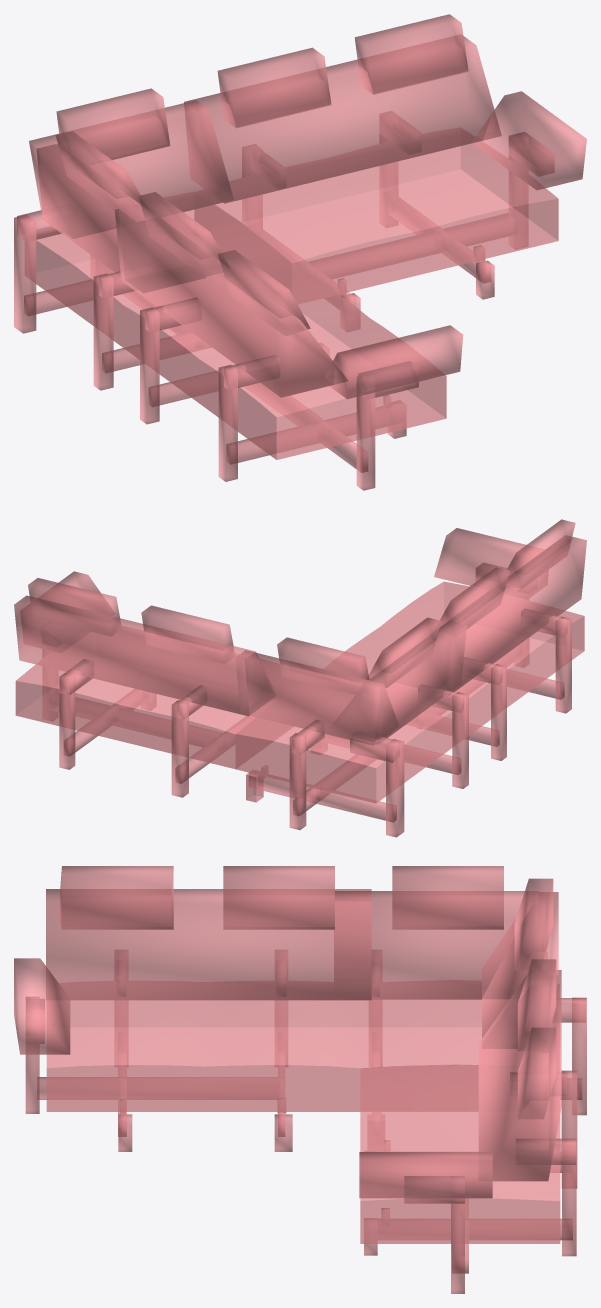
File: Sofa_01_collision.DAE
3 renders of one model, top to bottom at view 1: azimuth 30°, elevation 25°; view 2: azimuth 150°, elevation 25°; view 3: azimuth 270°, elevation 25°, orthographic. The views are drawn at different scales.
Visible parts, largest first — view 1: Sofa_01_collision; view 2: Sofa_01_collision; view 3: Sofa_01_collision.
Part boxes in pixels (<box>): Sofa_01_collision: <box>14,14,586,490</box>; Sofa_01_collision: <box>14,519,586,837</box>; Sofa_01_collision: <box>14,866,586,1293</box>.
Bounding box in the file's own units: 243 × 246 × 97.21.
